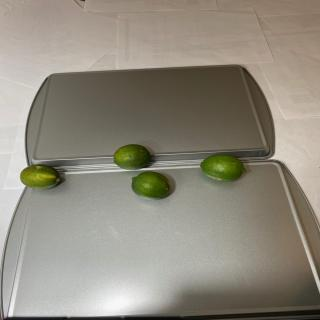Lemon: (200, 154, 246, 182), (131, 171, 171, 200), (20, 164, 60, 190), (113, 144, 151, 170)
